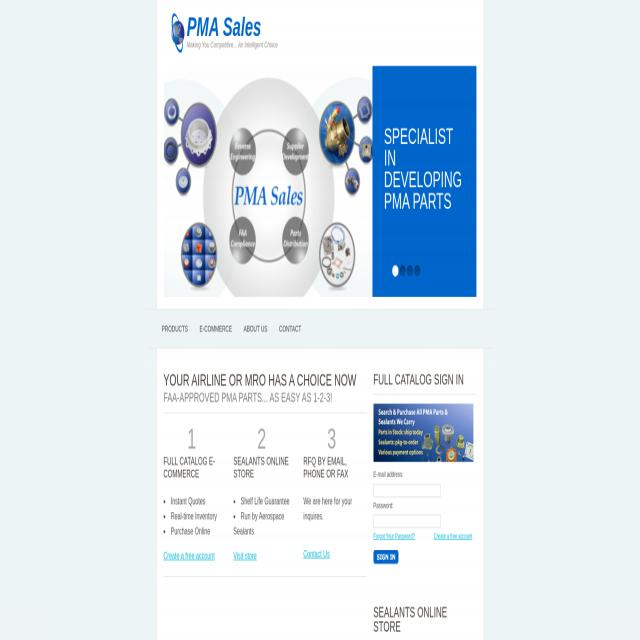button: (164, 66, 372, 297), (373, 404, 473, 462), (195, 309, 237, 348), (157, 309, 193, 348), (239, 309, 272, 348), (274, 309, 306, 348), (374, 550, 400, 563)
field: (373, 483, 441, 497), (373, 514, 441, 528)
